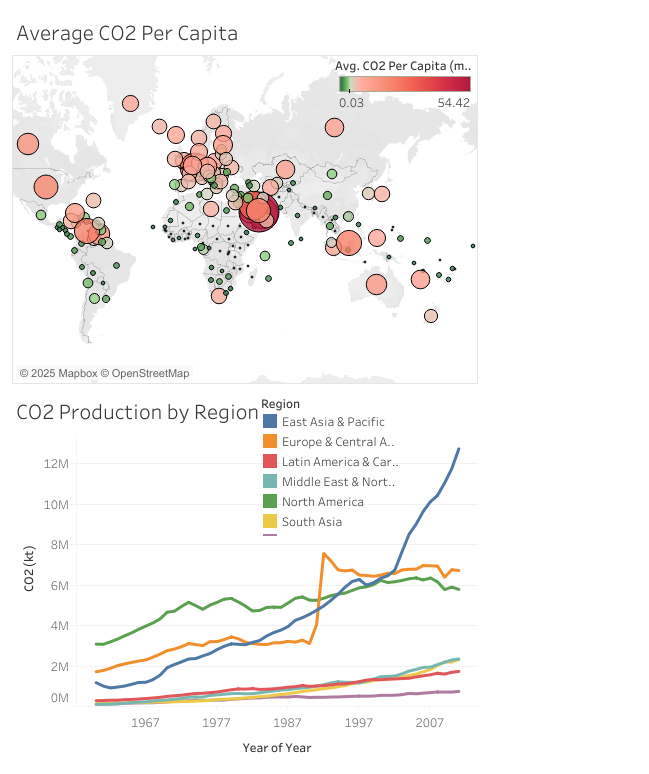

The dashboard page shown, as its layout file describes it:
{"tool":"tableau","page":{"name":"Dashboard 1","canvas":[650,860],"ordinal":0},"visuals":[{"type":"worksheet","title":"Sheet 1","mark":"Automatic","box":[8,8,474,422]},{"type":"legend","title":"Sheet 1","param":"[federated.1csebbg00kug441gxrxfd09dh1ok].[avg:CO2 Per Capita (metric tons):qk]","box":[335,57.2,140,76.3]},{"type":"worksheet","title":"Sheet 2","mark":"Automatic","rows":["CO2 (kt)"],"cols":["Year"],"box":[8,430,474,422]},{"type":"legend","title":"Sheet 2","param":"[federated.1csebbg00kug441gxrxfd09dh1ok].[none:Region:nk]","box":[260,434.5,139,160.6]}]}

Visuals, with their boxes on the page's 650x860 design canvas (x1, y1, x2, y2). These are canvas units, not pixel positions in the 649x774 screenshot, which may show the page scaled, cropped or inside an application window:
"Sheet 1" worksheet: box(8, 8, 482, 430)
"Sheet 1" legend: box(335, 57, 475, 134)
"Sheet 2" worksheet: box(8, 430, 482, 852)
"Sheet 2" legend: box(260, 434, 399, 595)
